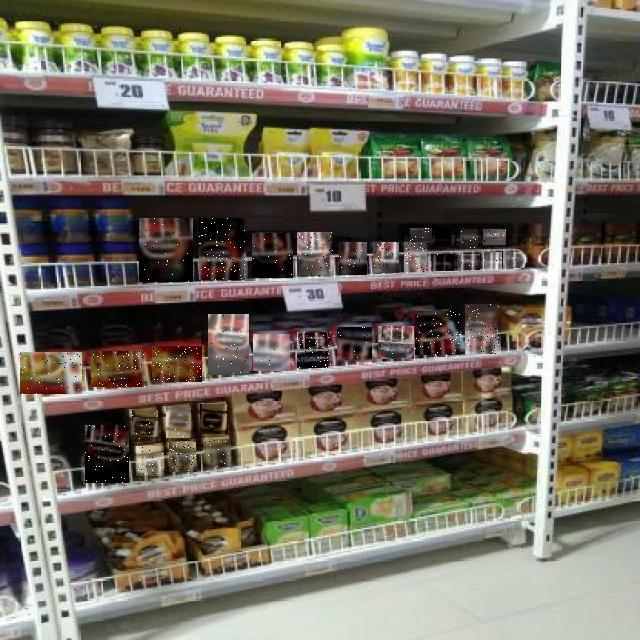Coffee: (139, 218, 193, 282), (200, 218, 246, 280), (20, 352, 82, 394), (85, 425, 129, 483), (208, 314, 249, 375), (416, 311, 462, 355), (92, 351, 146, 387), (252, 233, 293, 278), (153, 346, 203, 382), (466, 304, 500, 354), (298, 233, 334, 277), (254, 334, 292, 371), (337, 328, 372, 364), (298, 332, 332, 368), (378, 326, 414, 359), (339, 242, 367, 275), (200, 404, 228, 434), (136, 447, 164, 477), (133, 410, 159, 442), (169, 442, 196, 472), (373, 242, 399, 273), (166, 407, 191, 439), (204, 439, 231, 467), (404, 242, 427, 272), (432, 254, 454, 271), (483, 229, 506, 245), (458, 255, 480, 271), (460, 229, 478, 248), (436, 229, 454, 247), (484, 252, 502, 270), (506, 252, 525, 268), (410, 228, 432, 241)
